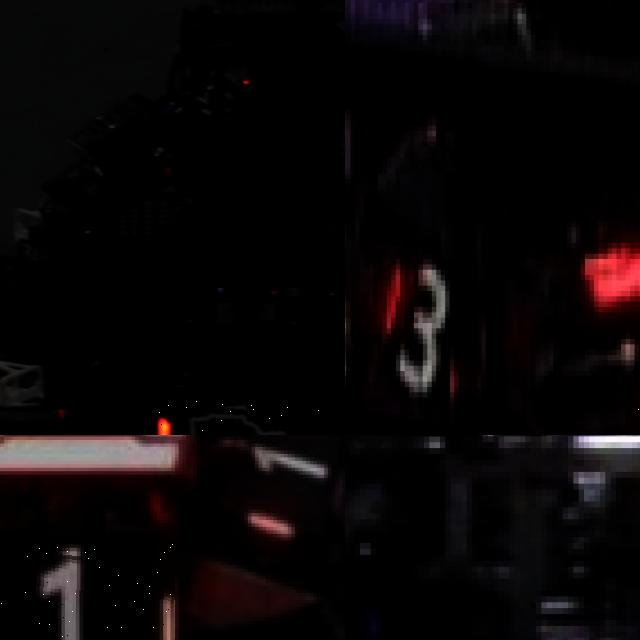R1: (0, 544, 175, 640), (240, 435, 335, 554)
R3: (360, 251, 490, 427)
Rs: (151, 400, 319, 435)
